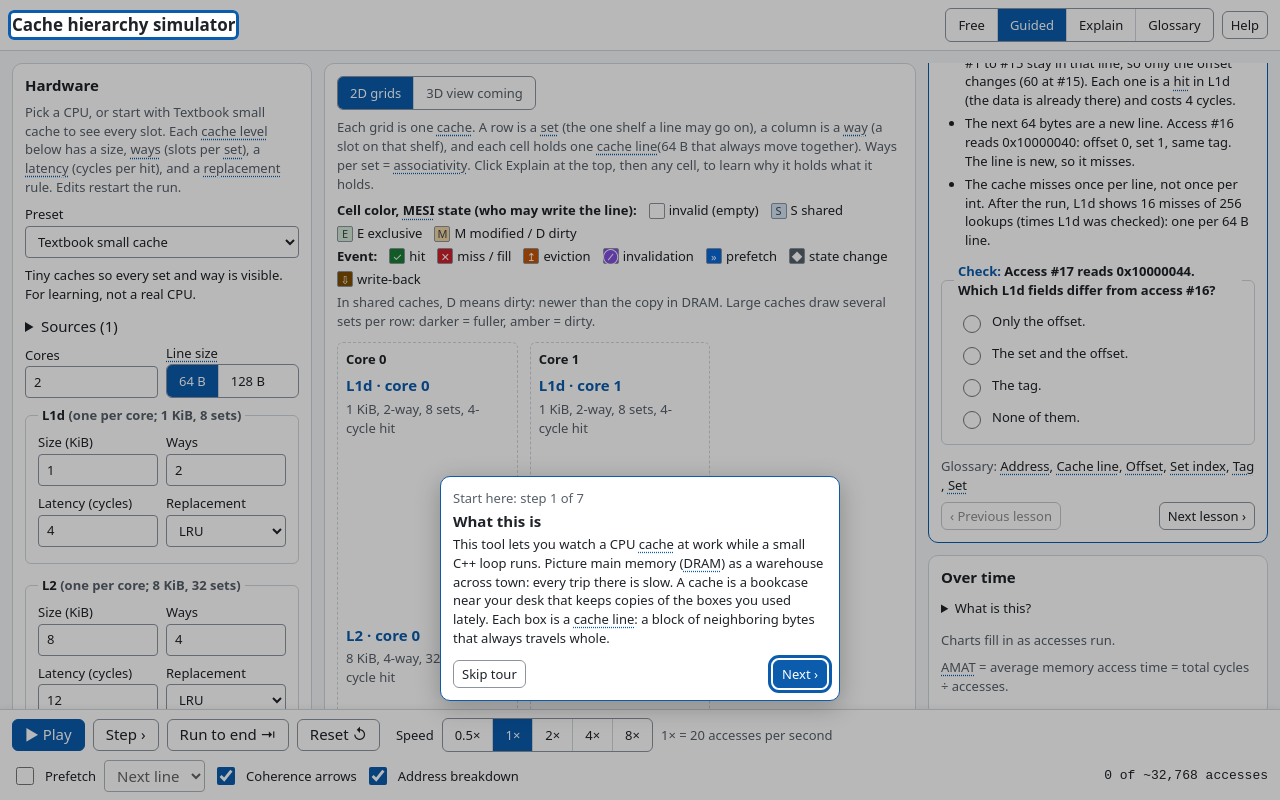
Test: Guided mode › checks an answer, explains it, and marks the lesson done
(page scrolled)
Click the radio button labelled "The tag." at (972, 388), box [963,379,981,397]
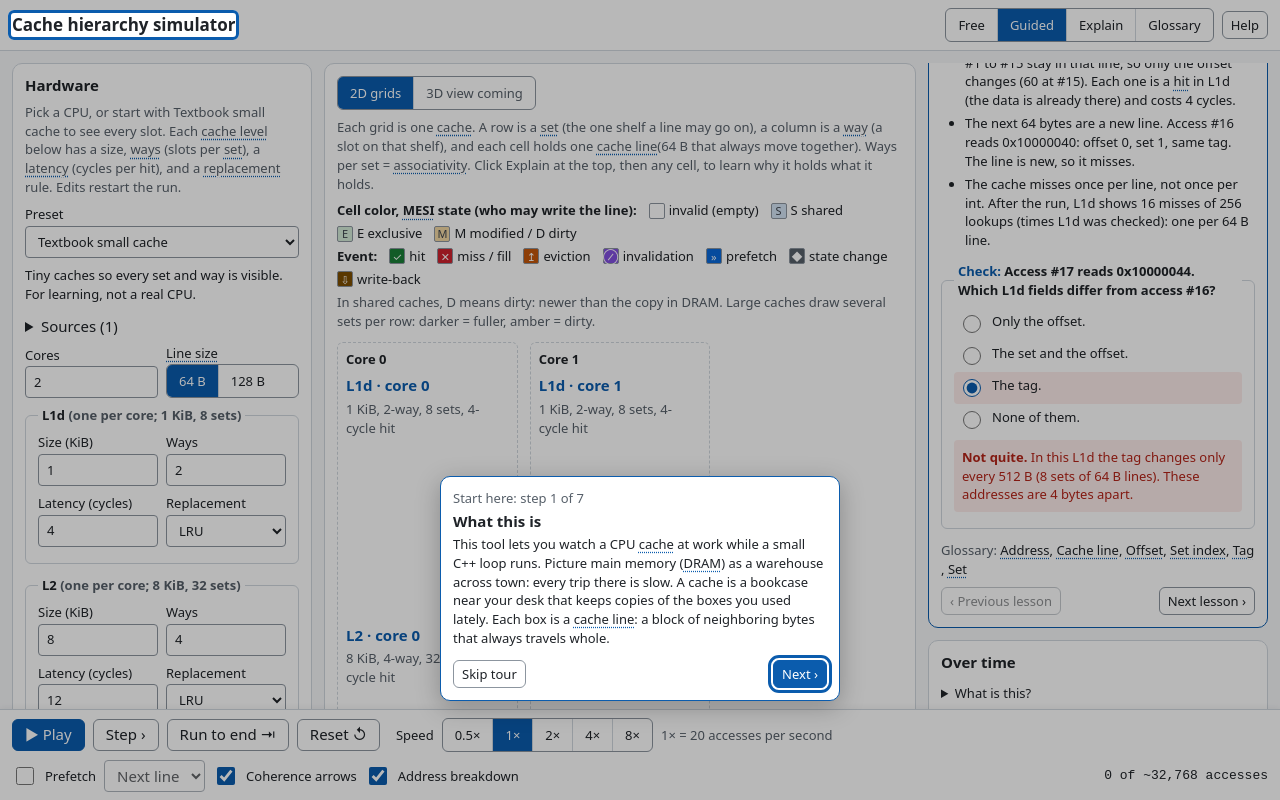
Expected: the text "Not quite." is shown, [962,448,1027,466]
Click the radio button labelled "Only the offset." at (972, 324), box [963,315,981,333]
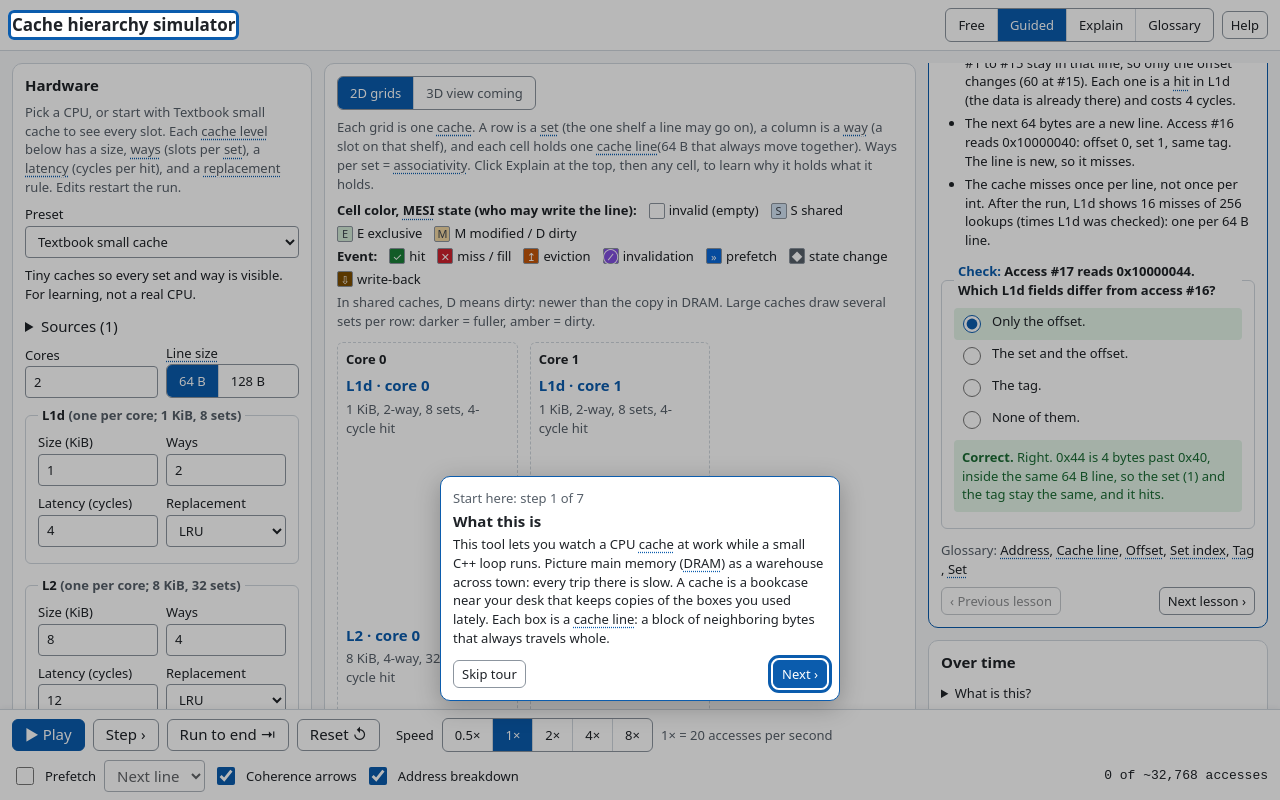
Expected: the text "Correct." is shown, [962,448,1014,466]
Click the button "Next lesson ›" at (1207, 601), box [1159,587,1255,615]
(page scrolled)
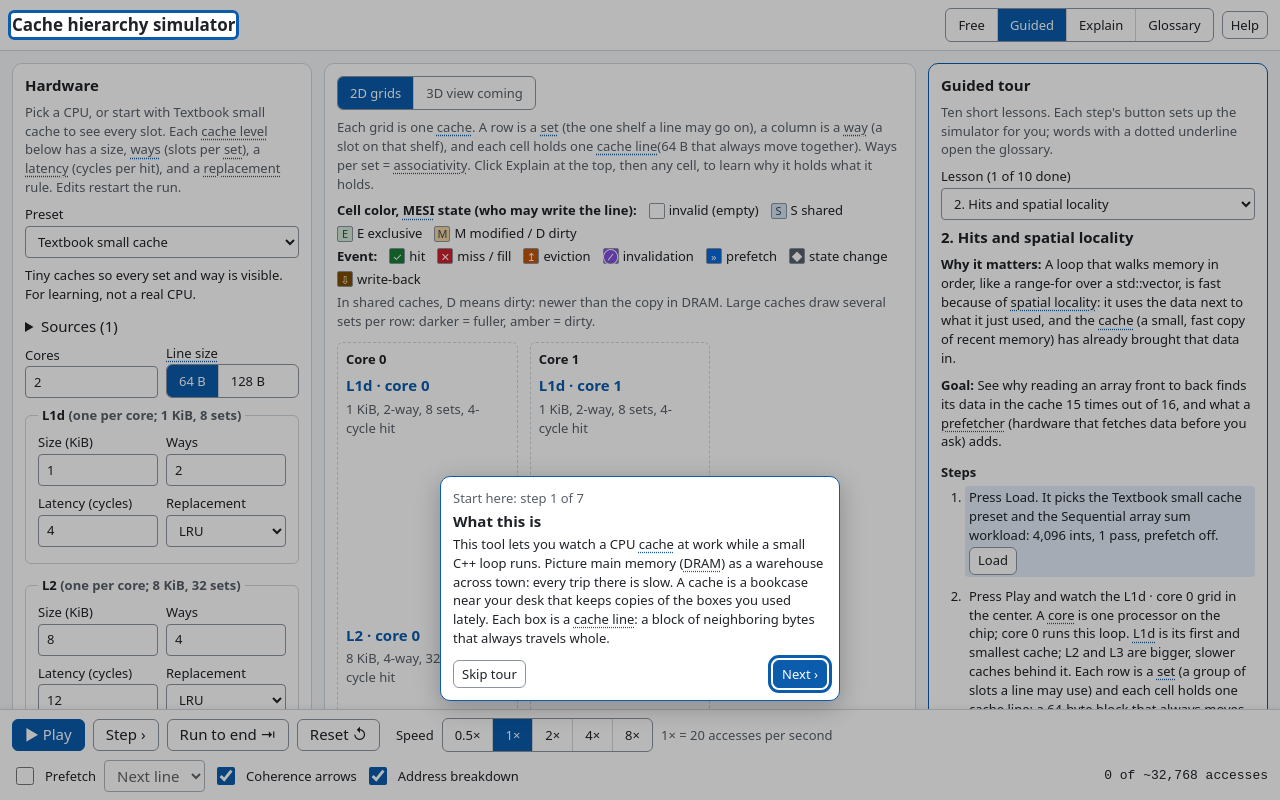
Expected: the heading "2. Hits and spatial locality" is shown, [941,227,1134,247]
